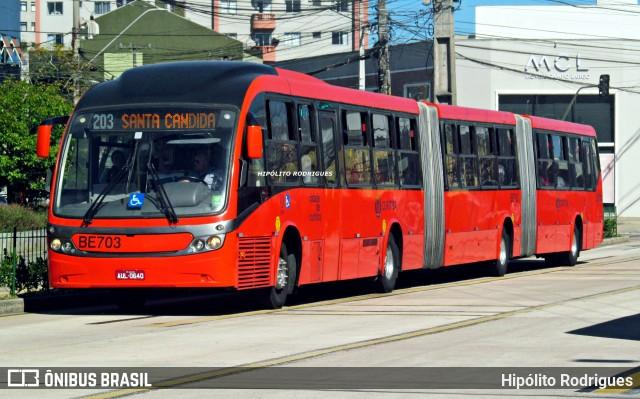SANTA CANDIDA: (118, 111, 219, 133)
